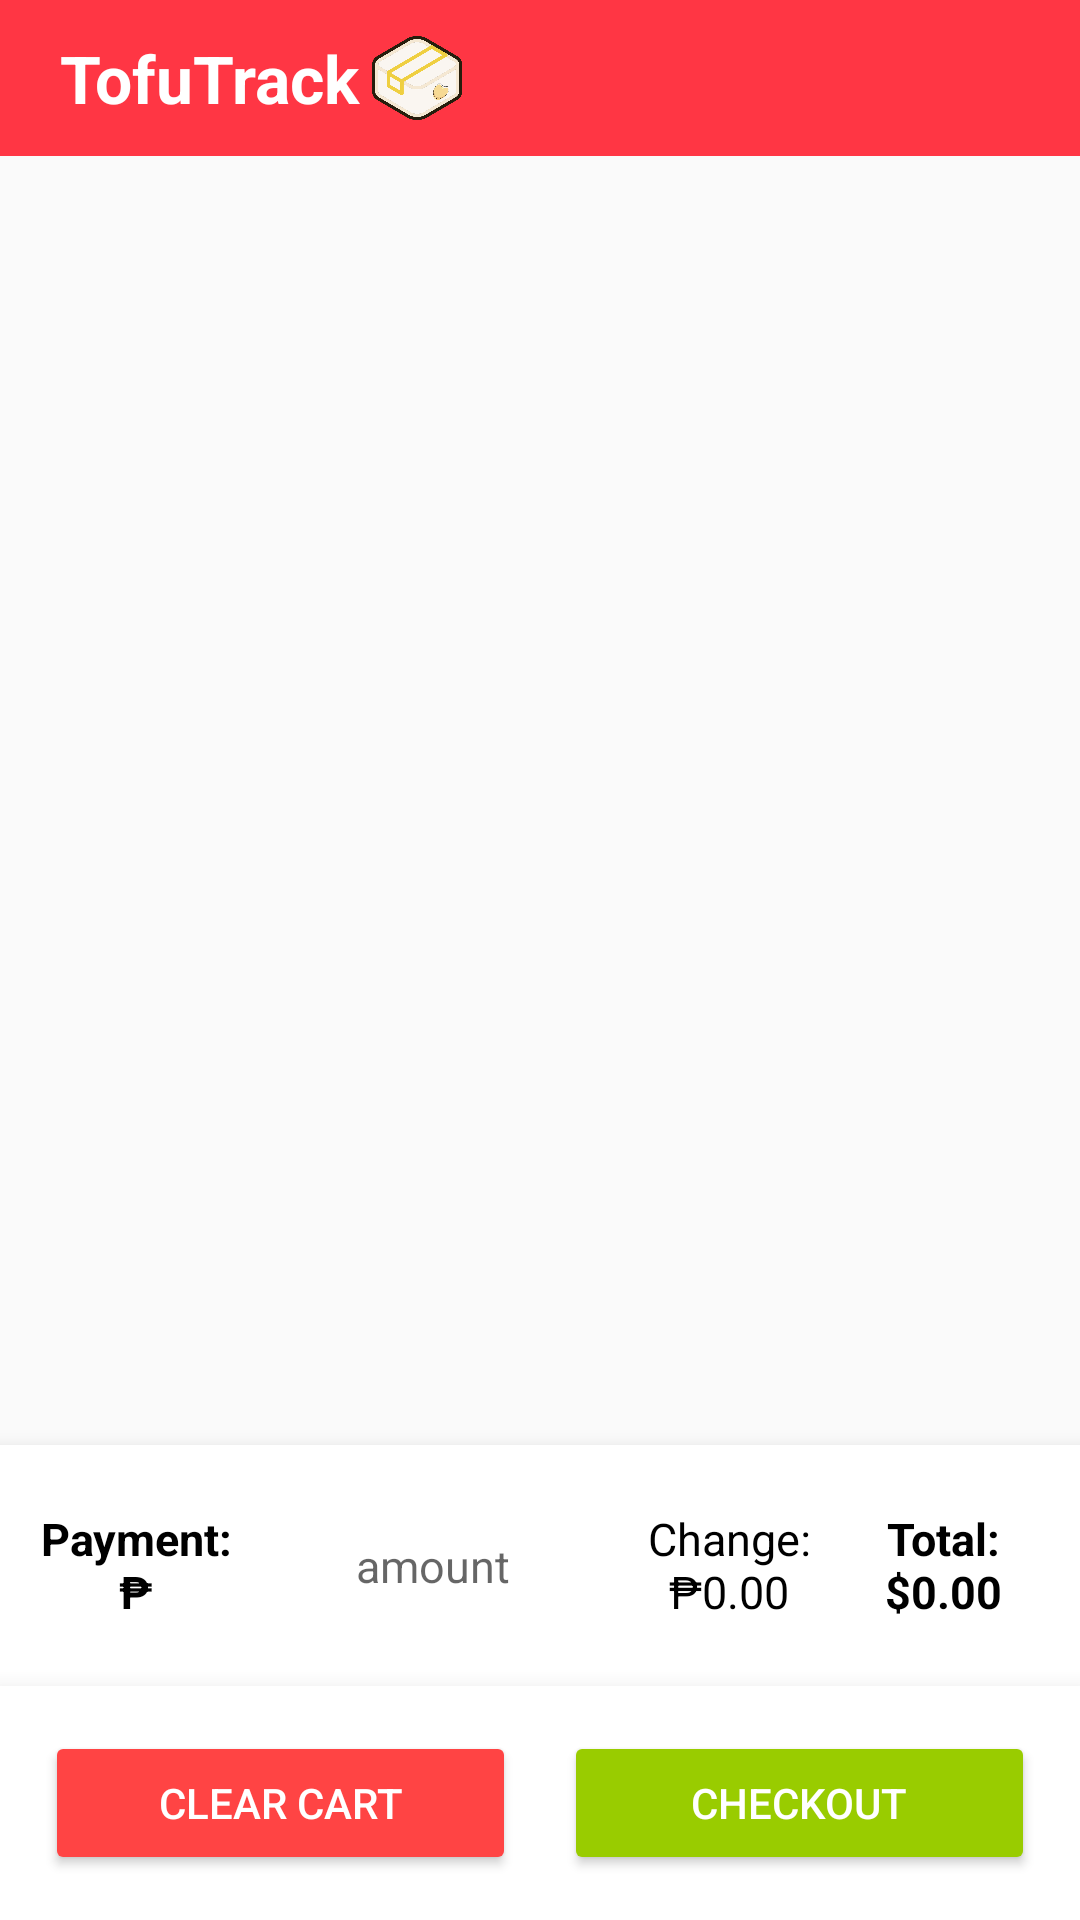

Named icons in this screenshot (1080x1920) and their bounding boxes, (x1, y1, x2, y2):
loogo: (372, 36, 462, 120)
